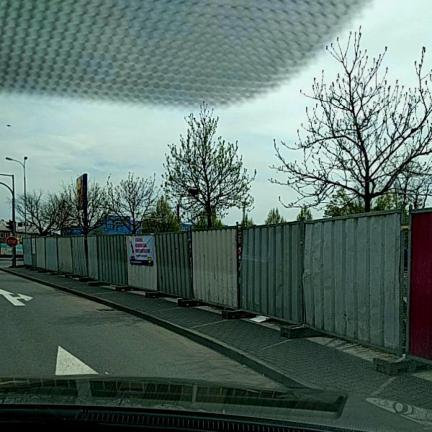Road: (0, 272, 279, 387)
